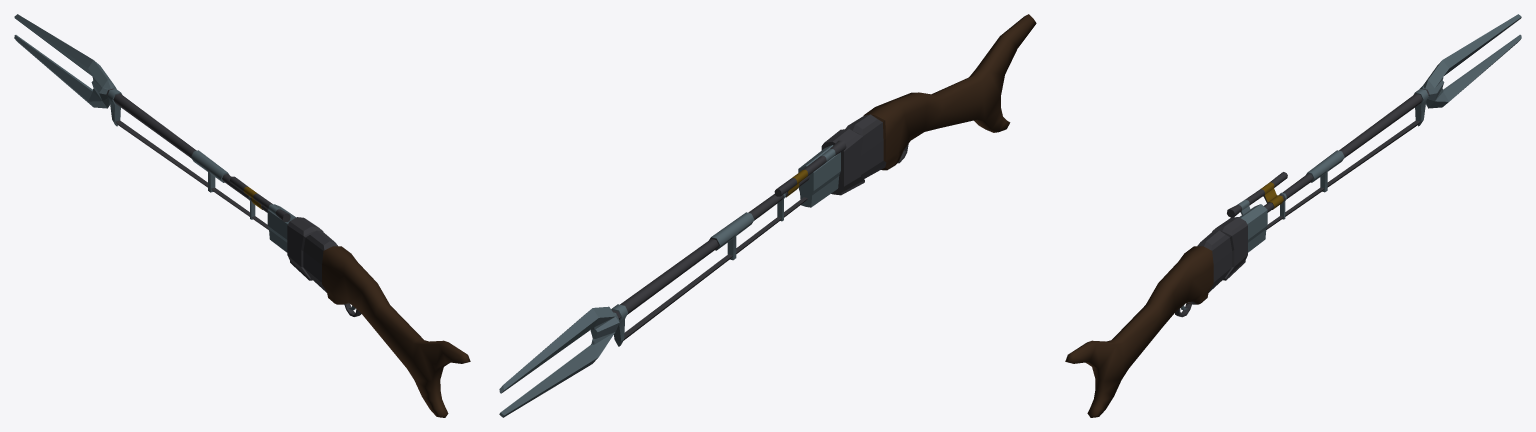
File: rifle.FBX
The picture shows the model from 3 angles, left to right: view 1: azimuth 30°, elevation 25°; view 2: azimuth 150°, elevation 25°; view 3: azimuth 330°, elevation 25°; orthographic projection. The views are drawn at different scales.
Parts seen in each view (by area): view 1: Franco003; view 2: Franco003; view 3: Franco003.
Boxes of the visible parts, x1,y1,x2,y2 form: Franco003: [14, 14, 470, 417]; Franco003: [499, 14, 1036, 417]; Franco003: [1065, 14, 1521, 417].
Size of the model in its own units: 6.97 by 29.23 by 232.
